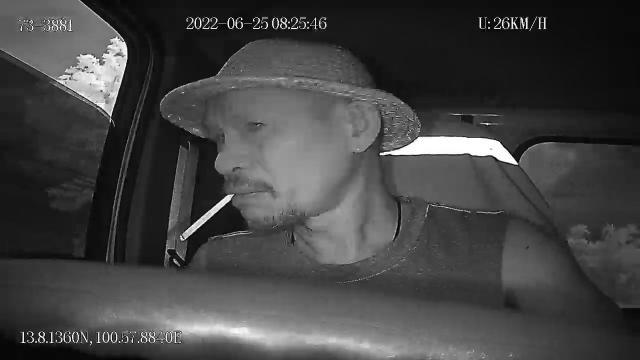Smoking: (180, 194, 237, 242)
